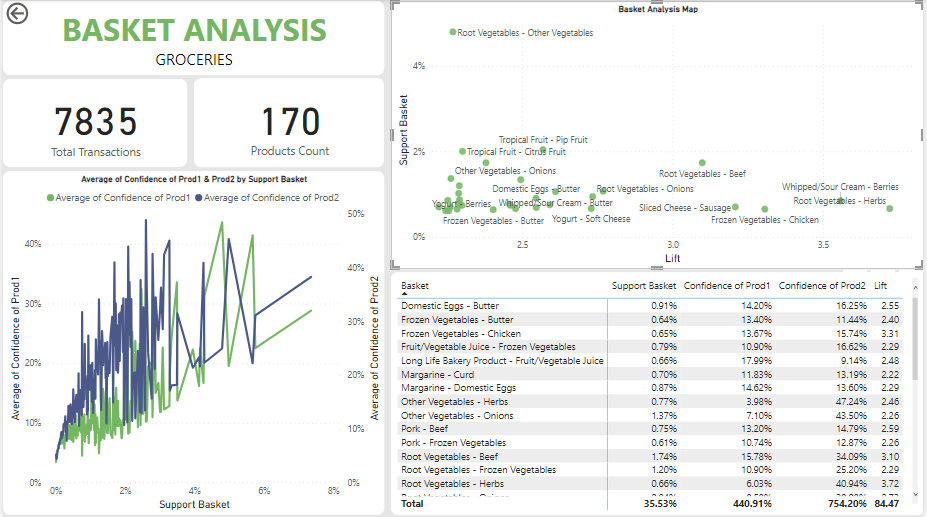

The page's visual inventory and layout, read from the dashboard file:
{"tool":"powerbi","page":{"name":"Basket Analysis","canvas":[1280,720],"ordinal":0},"visuals":[{"type":"scatterChart","title":"Basket Analysis Map","fields":{"Category":["Basket analysis.Basket"],"X":["Sum(Basket analysis.Lift)"],"Y":["Sum(Basket analysis.Support Basket)"]},"box":[539.3,2.8,740.8,372.5],"z":0},{"type":"pivotTable","title":"Basket Analsis Detail","fields":{"Rows":["Basket analysis.Basket"],"Values":["Sum(Basket analysis.Support Basket)","Sum(Basket analysis.Confidence of Prod1)","Sum(Basket analysis.Confidence of Prod2)","Sum(Basket analysis.Lift)"]},"box":[539.1,379.5,740.8,337.8],"z":1000},{"type":"textbox","box":[0,2.8,529.6,102.9],"z":2000},{"type":"card","fields":{"Values":["Groceries.Total Transactions"]},"box":[0,111.2,255.8,122.3],"z":3000},{"type":"card","fields":{"Values":["Groceries.Products Count"]},"box":[265.5,109.8,264.1,123.7],"z":4000},{"type":"actionButton","box":[0,0,100,40],"z":5000},{"type":"lineChart","title":"Average of Confidence of Prod1 & Prod2 by Support Basket","fields":{"Category":["Basket analysis.Support Basket"],"Y":["Avg(Basket analysis.Confidence of Prod1)"],"Y2":["Avg(Basket analysis.Confidence of Prod2)"]},"box":[0,239.1,529.6,478.1],"z":5001}]}

Visuals, with their boxes in screenshot pixels (x1, y1, x2, y2), scaled from the page's 1280x720 canvas onto the 927x517 screenshot:
"Basket Analysis Map" scatterChart: <bbox>391, 2, 926, 269</bbox>
"Basket Analsis Detail" pivotTable: <bbox>390, 273, 926, 515</bbox>
textbox: <bbox>0, 2, 384, 76</bbox>
card - Groceries.Total Transactions: <bbox>0, 80, 185, 168</bbox>
card - Groceries.Products Count: <bbox>192, 79, 384, 168</bbox>
actionButton: <bbox>0, 0, 72, 29</bbox>
"Average of Confidence of Prod1 & Prod2 by Support Basket" lineChart: <bbox>0, 172, 384, 515</bbox>
